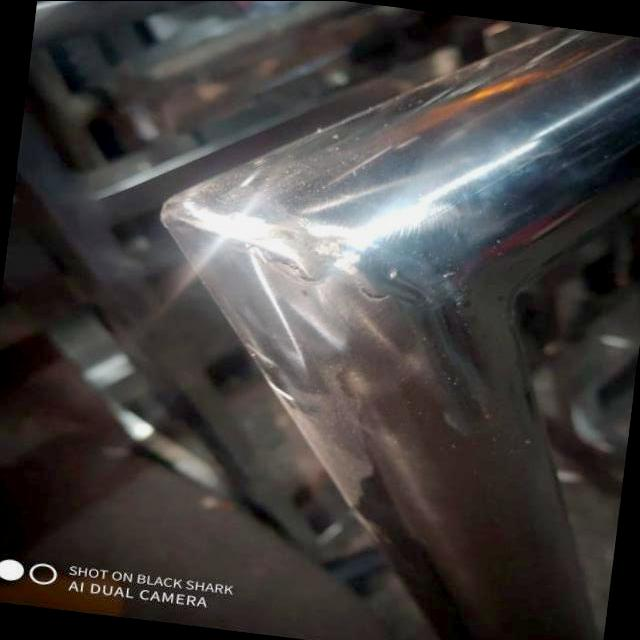defect: (200, 226, 335, 287), (351, 284, 423, 307)
